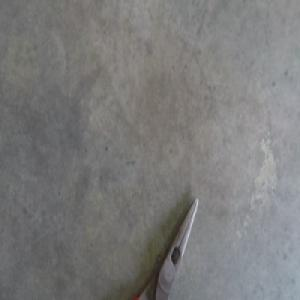Pliers: (136, 196, 198, 299)
